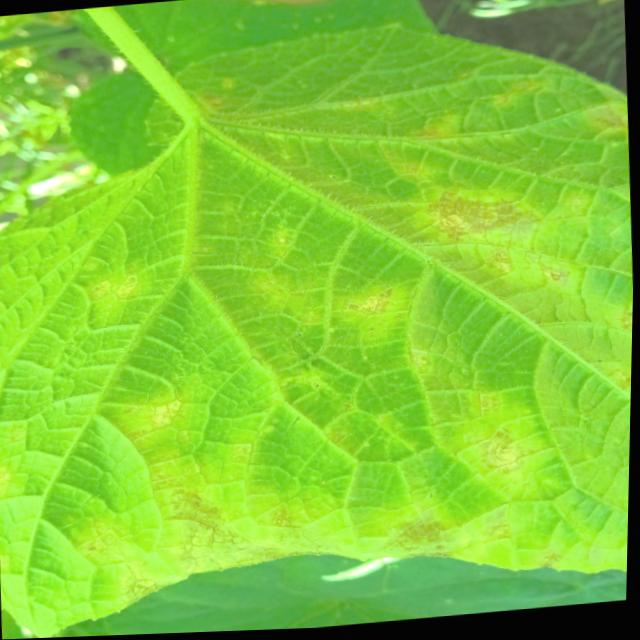Downy-Mildew: (0, 28, 634, 639)
